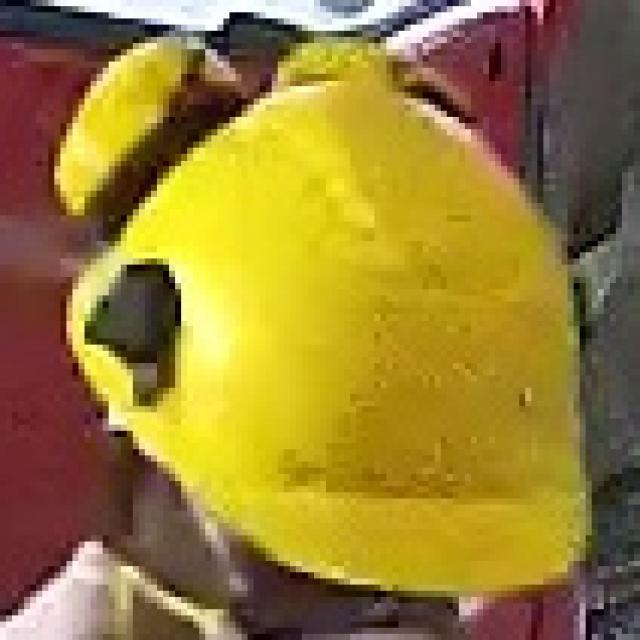yellow helmet: (46, 26, 618, 614)
